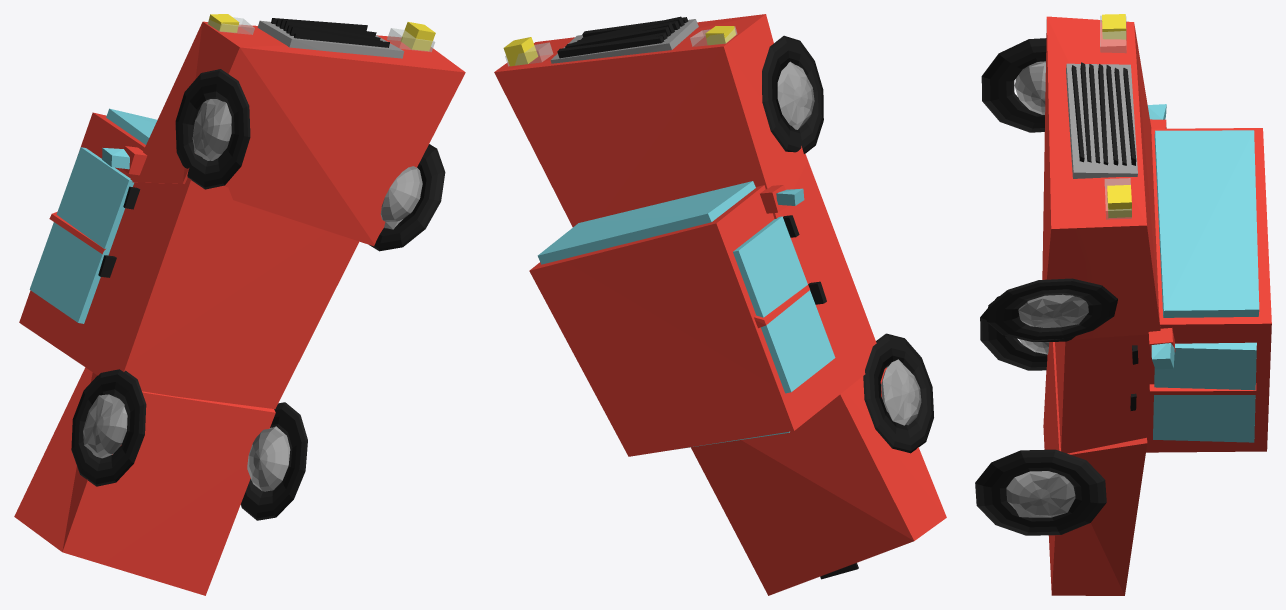
File: tesla.dae
3 views of the same model, side by side, from view 1: azimuth 30°, elevation 25°; view 2: azimuth 150°, elevation 25°; view 3: azimuth 270°, elevation 25° (orthographic). The views are drawn at different scales.
Visible parts, largest first — view 1: model; view 2: model; view 3: model.
Boxes of the visible parts, <box> form: model: <box>14,14,465,595</box>; model: <box>494,14,946,595</box>; model: <box>975,14,1271,595</box>.
Size of the model in its own units: 0.3877 by 0.2185 by 0.492.
